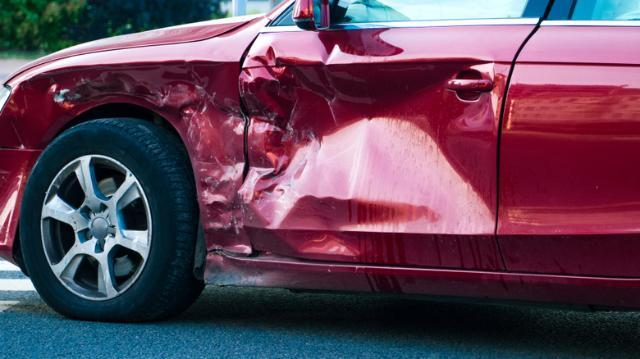Bumper: (0, 149, 45, 252)
Door: (239, 32, 534, 269)
Fender: (0, 21, 261, 259)
